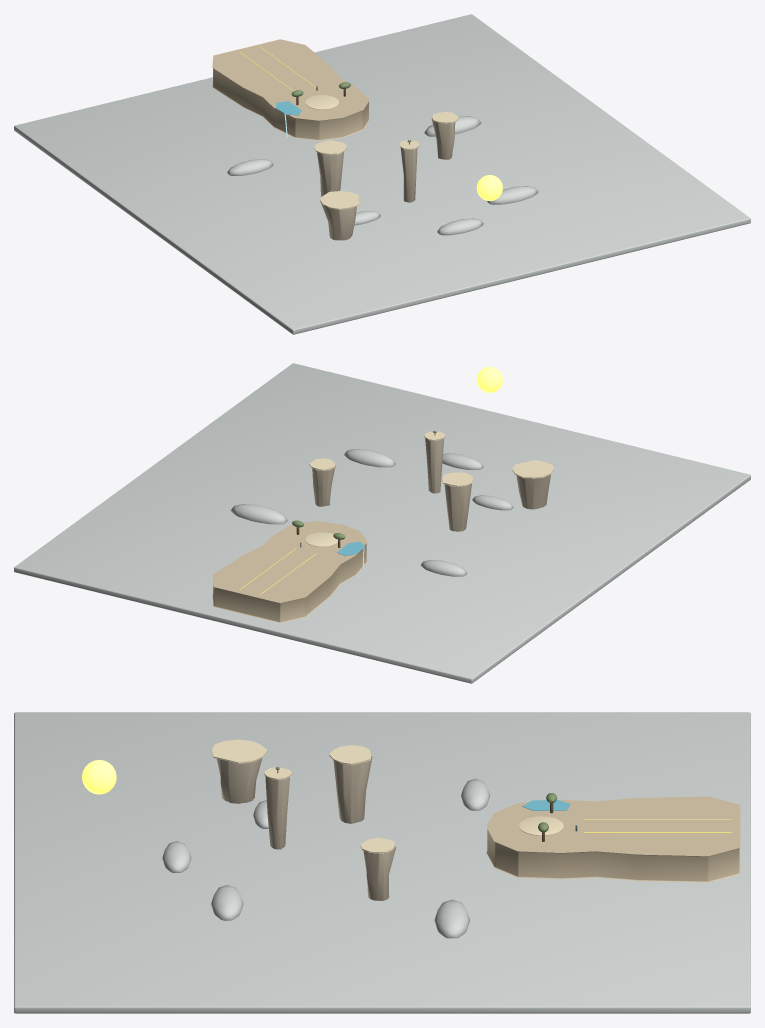
The model's file is olive-cloudbreak-graybox-r1.glb.
The picture shows the model from 3 angles, top to bottom: view 1: azimuth 30°, elevation 25°; view 2: azimuth 150°, elevation 25°; view 3: azimuth 270°, elevation 25°; orthographic projection. The views are drawn at different scales.
Visible parts, largest first — view 1: Cloudbreak_CloudOcean, Cloudbreak_Landmass, Cloudbreak_Mesa_right-fall_Body, Cloudbreak_Mesa_far-right-shelf_Body, Cloudbreak_Mesa_high-olive_Body, Cloudbreak_Mesa_left-fall_Body, Cloudbreak_Mesa_far-right-shelf_Top, Cloudbreak_CloudBank_4, Cloudbreak_FarSun, Cloudbreak_CloudBank_5, Cloudbreak_CloudBank_1; view 2: Cloudbreak_CloudOcean, Cloudbreak_Landmass, Cloudbreak_Mesa_right-fall_Body, Cloudbreak_Mesa_far-right-shelf_Body, Cloudbreak_Mesa_high-olive_Body, Cloudbreak_CloudBank_2, Cloudbreak_Mesa_left-fall_Body, Cloudbreak_CloudBank_4, Cloudbreak_Mesa_far-right-shelf_Top, Cloudbreak_FarSun, Cloudbreak_CloudBank_1; view 3: Cloudbreak_CloudOcean, Cloudbreak_Landmass, Cloudbreak_Mesa_right-fall_Body, Cloudbreak_Mesa_far-right-shelf_Body, Cloudbreak_Mesa_high-olive_Body, Cloudbreak_Mesa_left-fall_Body, Cloudbreak_CloudBank_2, Cloudbreak_Mesa_far-right-shelf_Top, Cloudbreak_FarSun, Cloudbreak_CloudBank_4, Cloudbreak_CloudBank_1, Cloudbreak_CloudBank_5 (+2 smaller).
Boxes of the visible parts, x1,y1,x2,y2 form: Cloudbreak_CloudOcean: (14,14,750,334); Cloudbreak_Landmass: (212,39,369,140); Cloudbreak_Mesa_right-fall_Body: (317,152,343,196); Cloudbreak_Mesa_far-right-shelf_Body: (320,201,356,240); Cloudbreak_Mesa_high-olive_Body: (400,148,417,202); Cloudbreak_Mesa_left-fall_Body: (431,117,455,159); Cloudbreak_Mesa_far-right-shelf_Top: (320,191,359,209); Cloudbreak_CloudBank_4: (487,186,538,204); Cloudbreak_FarSun: (476,175,502,200); Cloudbreak_CloudBank_5: (437,218,483,235); Cloudbreak_CloudBank_1: (227,159,273,175); Cloudbreak_CloudOcean: (14,363,750,683); Cloudbreak_Landmass: (212,521,367,623); Cloudbreak_Mesa_right-fall_Body: (444,484,471,531); Cloudbreak_Mesa_far-right-shelf_Body: (516,474,550,509); Cloudbreak_Mesa_high-olive_Body: (425,437,444,493); Cloudbreak_CloudBank_2: (230,504,287,524); Cloudbreak_Mesa_left-fall_Body: (312,466,335,506); Cloudbreak_CloudBank_4: (344,449,395,467); Cloudbreak_Mesa_far-right-shelf_Top: (512,460,553,478); Cloudbreak_FarSun: (476,366,502,392); Cloudbreak_CloudBank_1: (420,560,467,576); Cloudbreak_CloudOcean: (14,712,750,1013); Cloudbreak_Landmass: (486,796,740,882); Cloudbreak_Mesa_right-fall_Body: (333,754,372,823); Cloudbreak_Mesa_far-right-shelf_Body: (217,758,262,803); Cloudbreak_Mesa_high-olive_Body: (265,776,289,849); Cloudbreak_Mesa_left-fall_Body: (363,845,396,900); Cloudbreak_CloudBank_2: (434,899,470,938); Cloudbreak_Mesa_far-right-shelf_Top: (211,739,267,763); Cloudbreak_FarSun: (82,759,116,794); Cloudbreak_CloudBank_4: (211,885,243,920); Cloudbreak_CloudBank_1: (461,778,489,810); Cloudbreak_CloudBank_5: (162,841,191,872).
Bounding box in the file's own units: 180 × 30.58 × 190.
